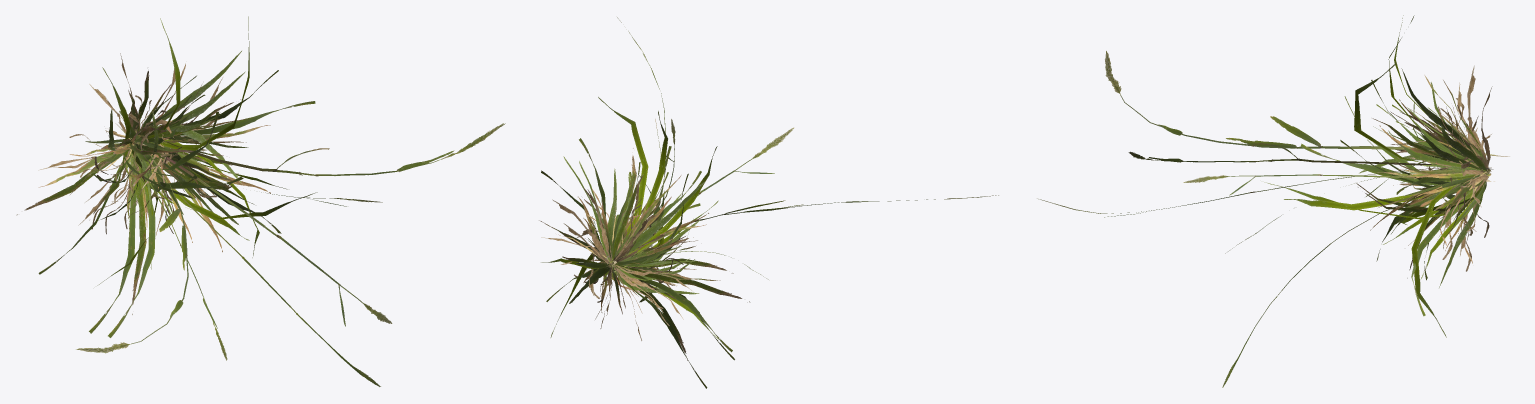
Rendered from Tall_Grass_02_Var1_LOD0.fbx.
3 views of the same model, side by side, from view 1: azimuth 30°, elevation 25°; view 2: azimuth 150°, elevation 25°; view 3: azimuth 270°, elevation 25° (orthographic). The views are drawn at different scales.
Parts seen in each view (by area): view 1: Var1_LOD0; view 2: Var1_LOD0; view 3: Var1_LOD0.
Part boxes in pixels (x1,y1,x2,y2): Var1_LOD0: (16,16,505,386); Var1_LOD0: (539,17,998,388); Var1_LOD0: (1037,15,1509,387).
Bounding box in the file's own units: 85.68 × 60.65 × 83.59.
